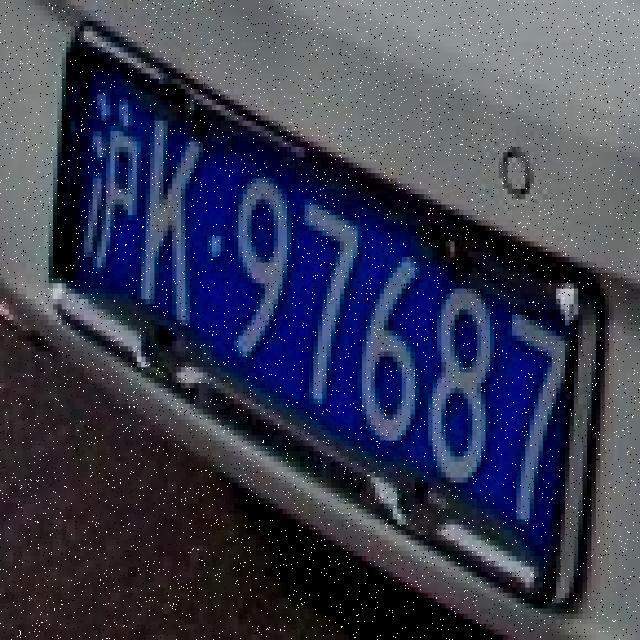LicensePlate: (44, 17, 607, 619)
